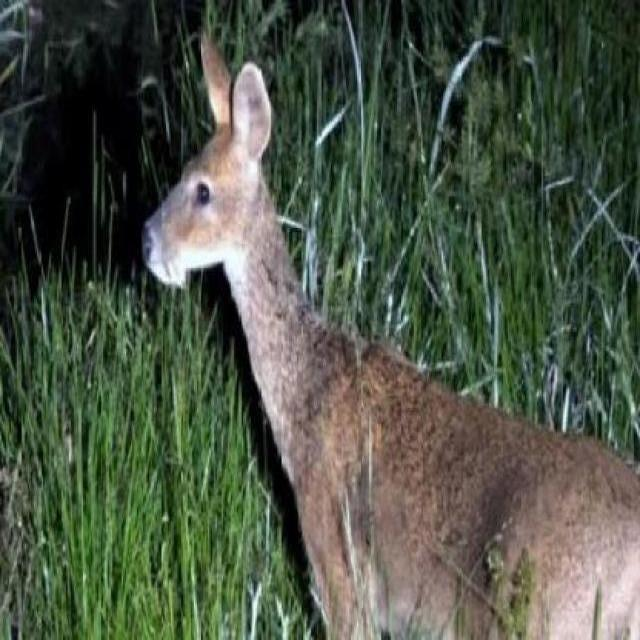deer: (140, 29, 640, 638)
